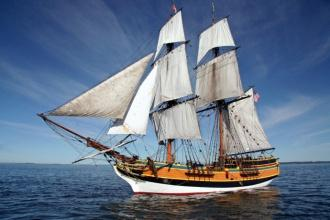fanchuan: (32, 8, 279, 197)
